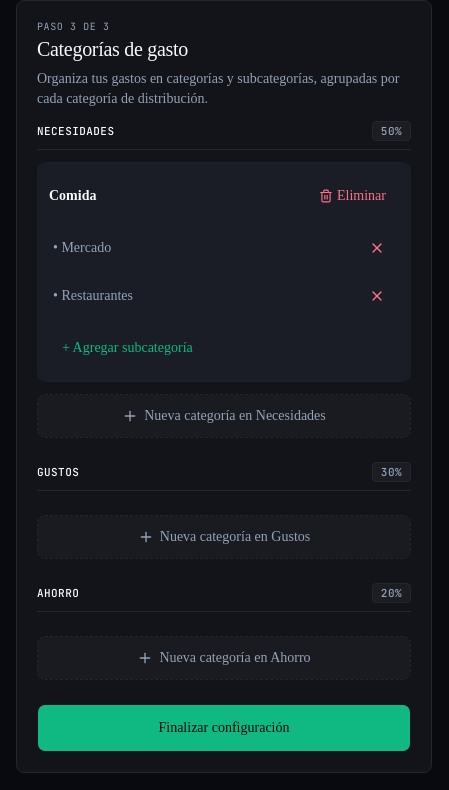
Scenario: OnboardingStep3 — managing categories › deletes a subcategory when another one remains
Click the button named "Eliminar subcategoría Restaurantes" at (377,296), box [355,274,399,318]
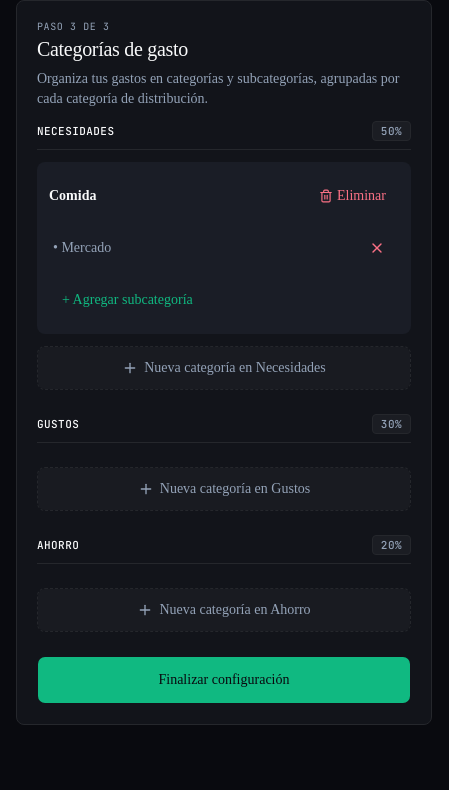
expect the text "Restaurantes" is gone: met
